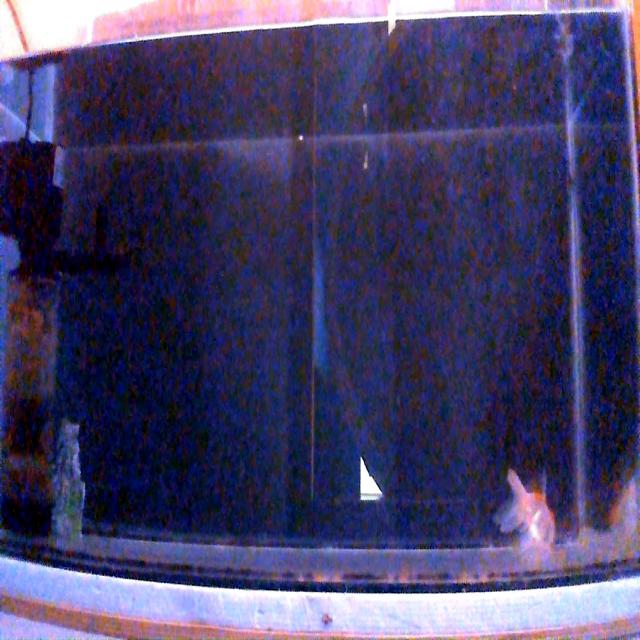fish: (496, 464, 556, 550), (606, 473, 639, 548)
